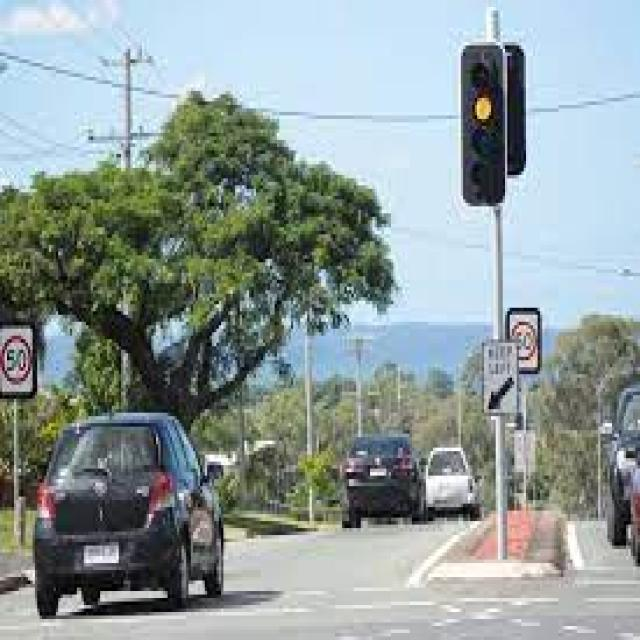yellow light: (472, 60, 494, 158)
